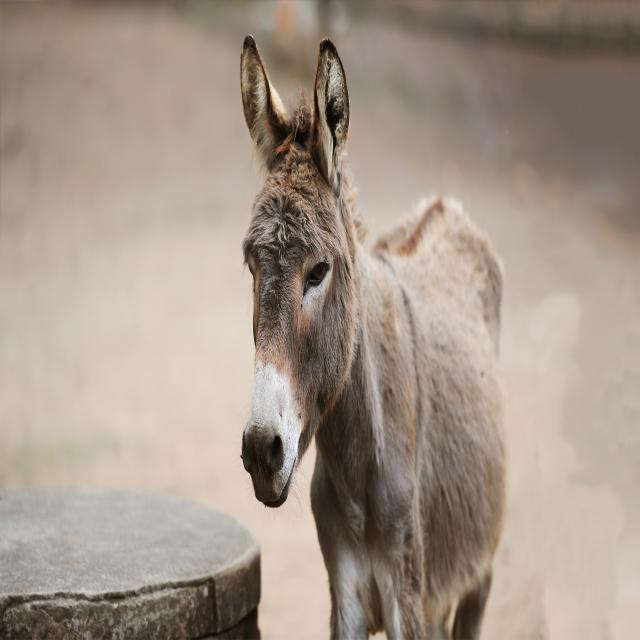Donkey: (240, 34, 504, 640)
